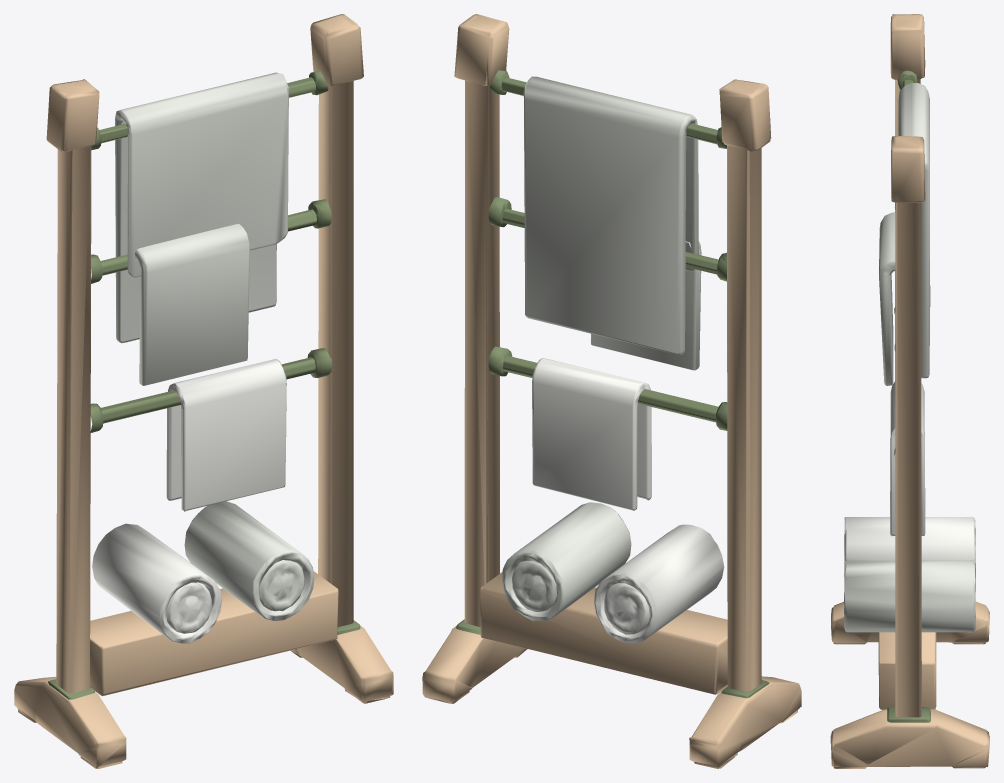
File: bath_towel_rack.glb
The picture shows the model from 3 angles, left to right: view 1: azimuth 30°, elevation 25°; view 2: azimuth 150°, elevation 25°; view 3: azimuth 270°, elevation 25°; orthographic projection. The views are drawn at different scales.
Bounding box in the file's own units: 1.1 × 2.25 × 0.5244.
